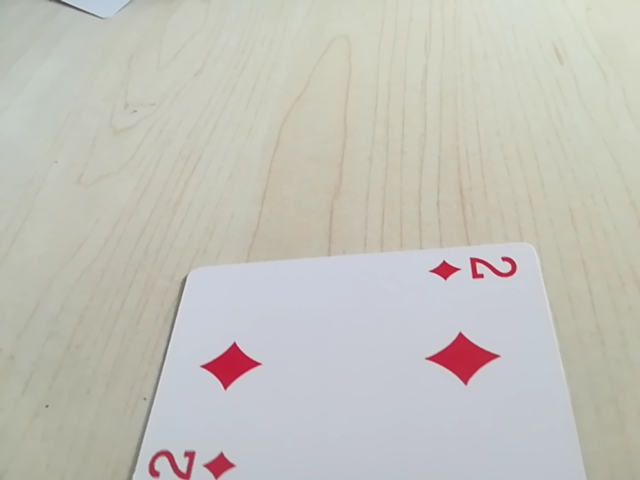fk 2: (143, 440, 246, 478), (428, 250, 526, 289)
